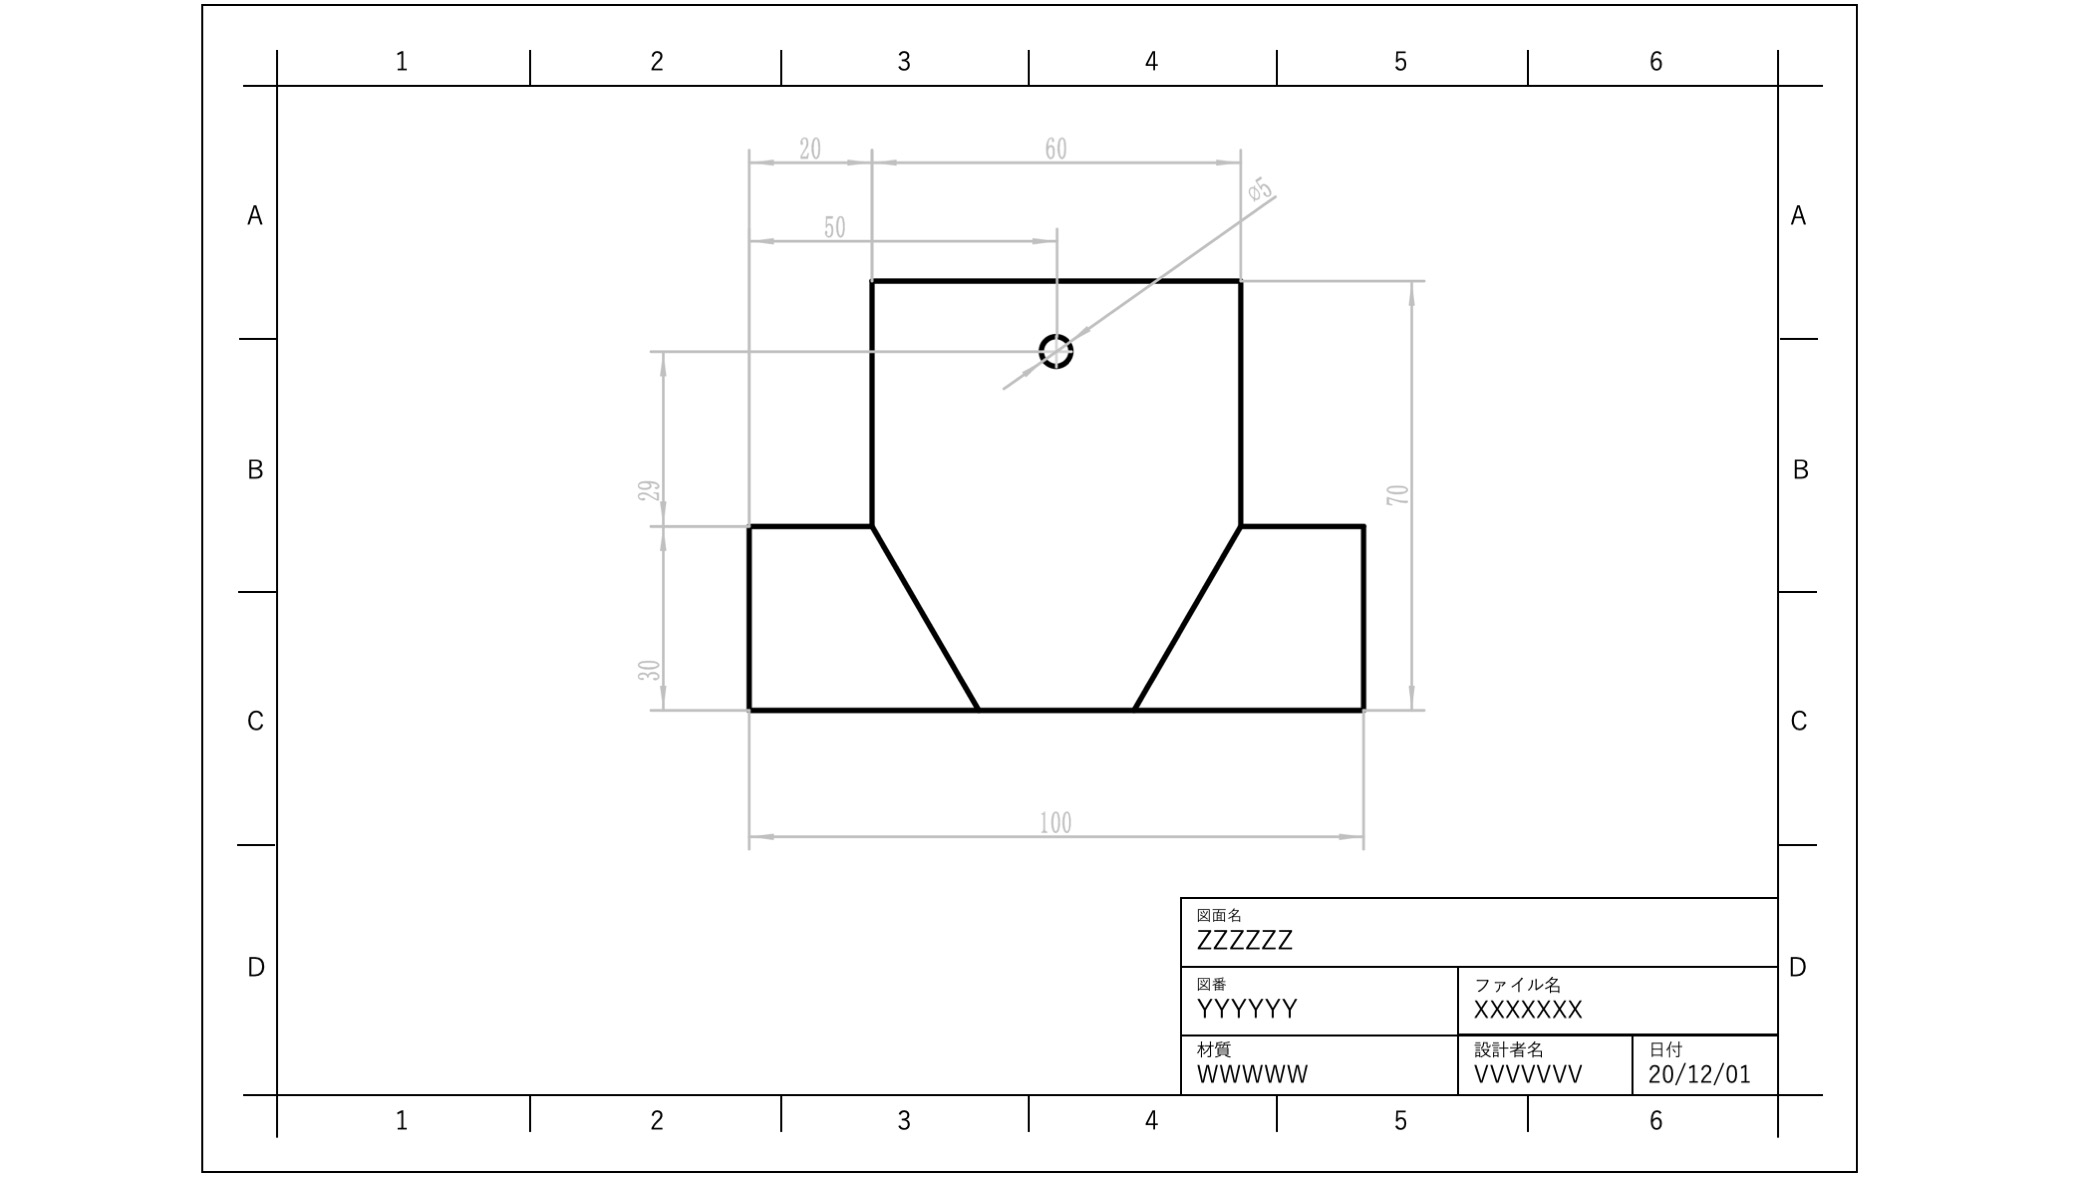circle: (1037, 319, 1080, 376)
